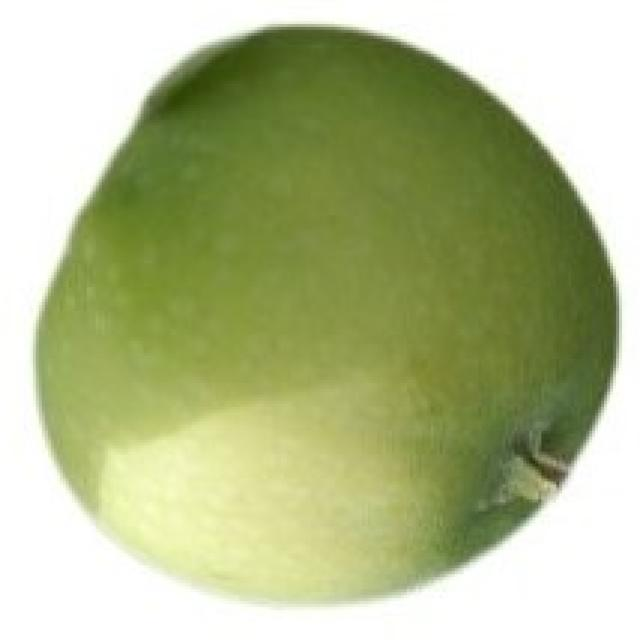50-_ripeness: (33, 17, 619, 609)
